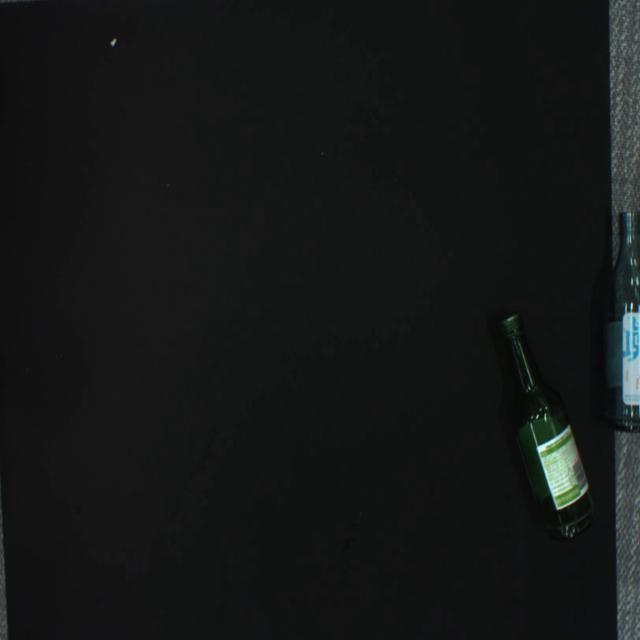soju-bottle: (501, 314, 595, 540), (601, 210, 640, 432)
